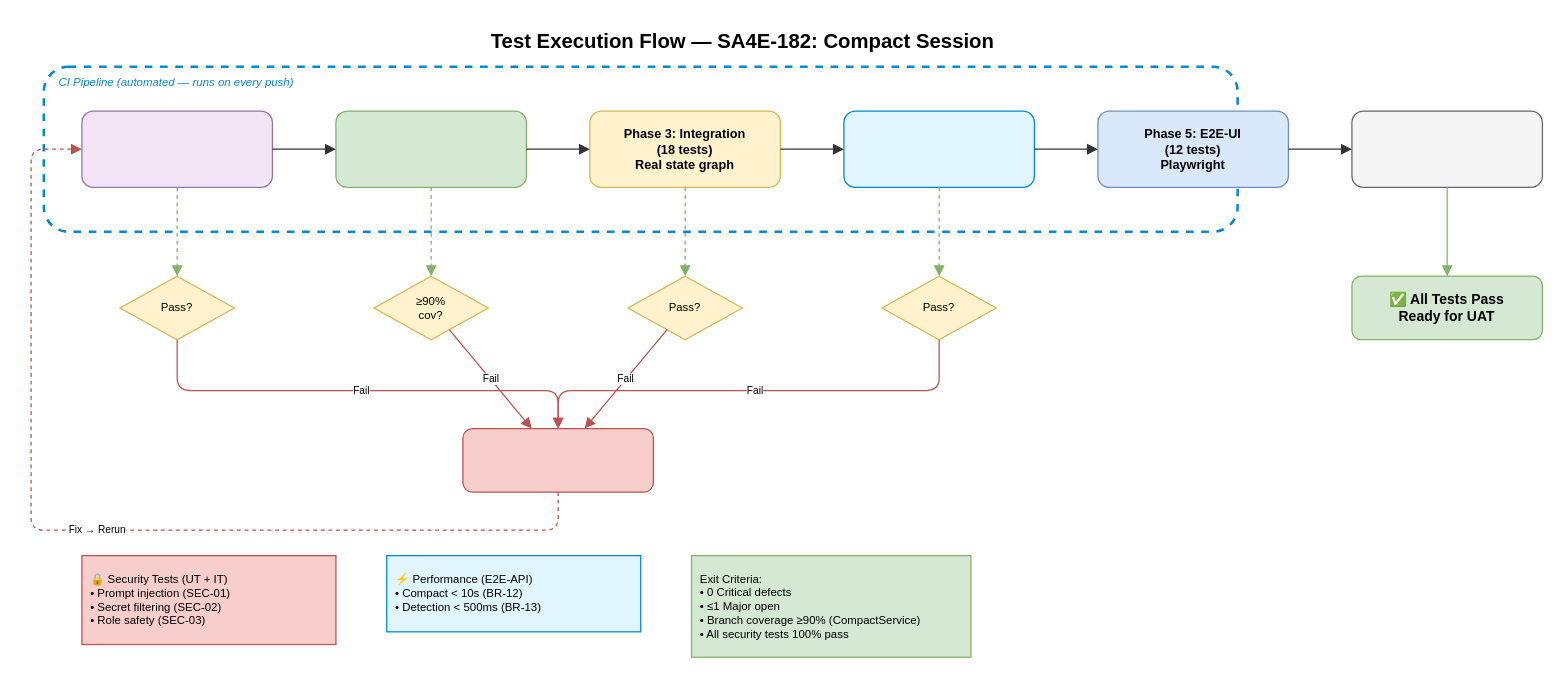
Some shapes in this 1565 by 679 pixel diagram are drawn without their labels. The centre of each missing label's shape, as x and y in pixels:
"Phase 1: PBT (8 tests) fast-check invariants" goes at pixel 176 148.
"Phase 2: Unit Tests (25 tests) Vitest + vi.mock" goes at pixel 430 148.
"Phase 4: E2E-API (12 tests) Full service flow" goes at pixel 938 148.
"Phase 6: SIT (8 tests) Manual + Visual" goes at pixel 1446 148.
"❌ Fix & Retest (Back to DEV)" goes at pixel 557 459.
